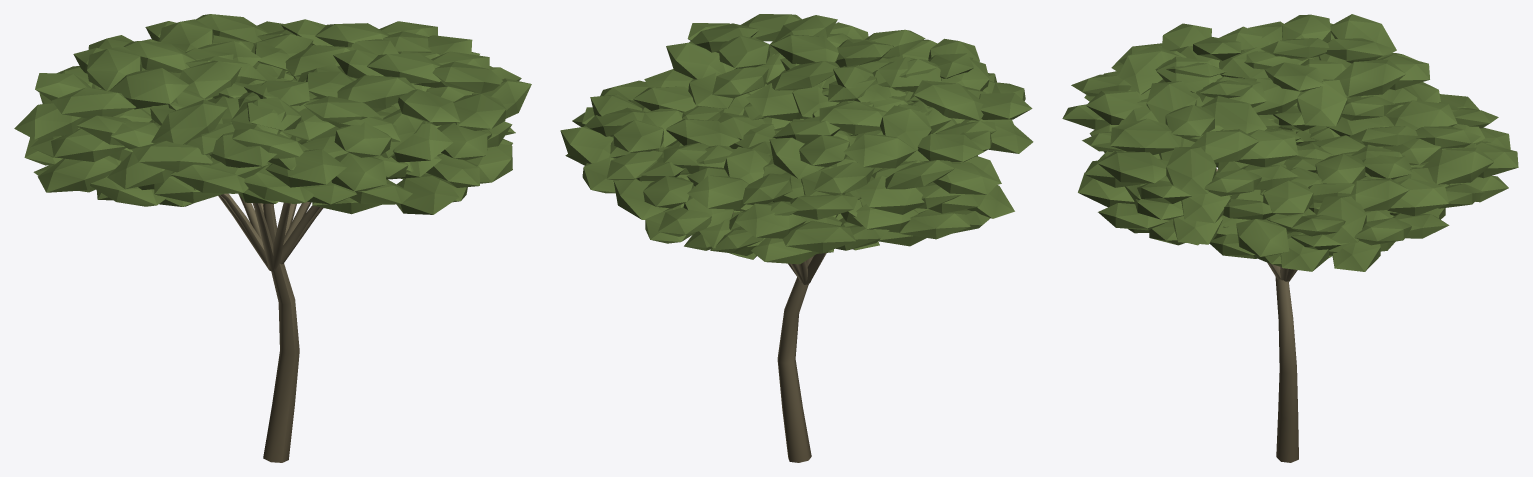
File: climate-acacia.glb
3 renders of one model, left to right at view 1: azimuth 30°, elevation 25°; view 2: azimuth 150°, elevation 25°; view 3: azimuth 270°, elevation 25°, orthographic. The views are drawn at different scales.
Parts seen in each view (by area): view 1: acacia-0, acacia-1; view 2: acacia-0, acacia-1; view 3: acacia-0, acacia-1.
Boxes of the visible parts, x1=… form: acacia-0: x1=24, y1=14, x2=531, y2=462; acacia-1: x1=14, y1=19, x2=515, y2=353; acacia-0: x1=572, y1=14, x2=1033, y2=462; acacia-1: x1=560, y1=29, x2=1001, y2=363; acacia-0: x1=1082, y1=23, x2=1518, y2=462; acacia-1: x1=1062, y1=14, x2=1510, y2=281.
Bounding box in the file's own units: 1.2 × 1 × 1.12.
